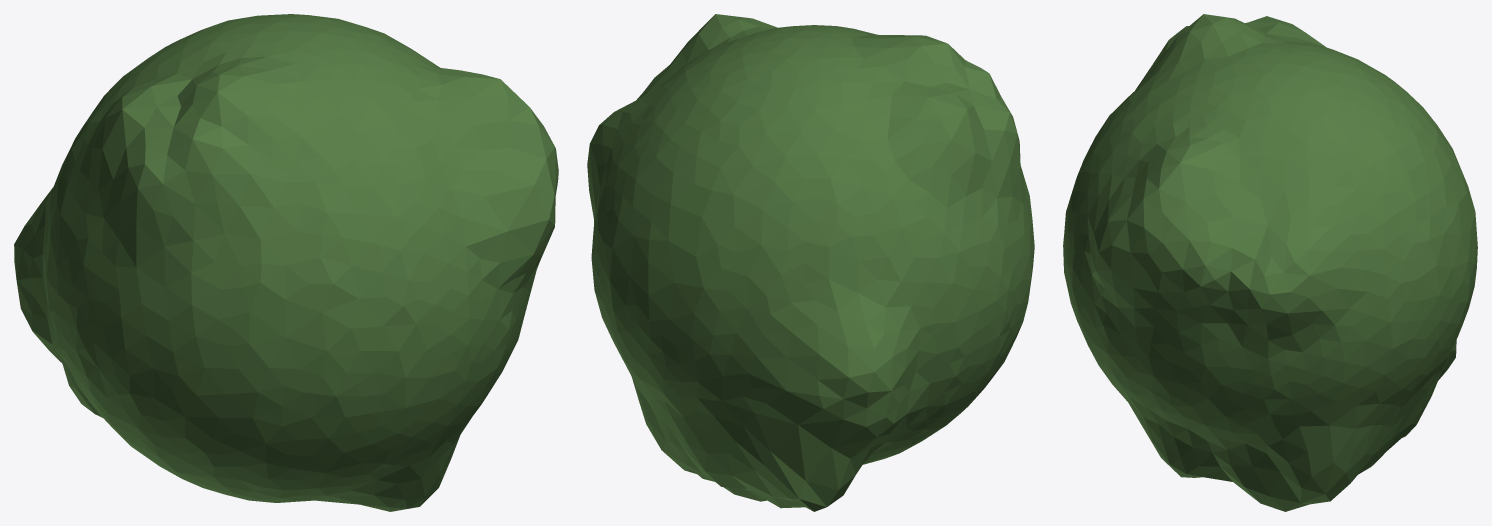
The model's file is planet-land.dae.
3 renders of one model, left to right at view 1: azimuth 30°, elevation 25°; view 2: azimuth 150°, elevation 25°; view 3: azimuth 270°, elevation 25°, orthographic. The views are drawn at different scales.
Visible parts, largest first — view 1: planet_land; view 2: planet_land; view 3: planet_land.
Part boxes in pixels (bbox=[...]): planet_land: bbox=[14, 14, 558, 511]; planet_land: bbox=[587, 14, 1034, 511]; planet_land: bbox=[1063, 14, 1477, 511].
Size of the model in its own units: 0.3083 by 0.2877 by 0.3205.
